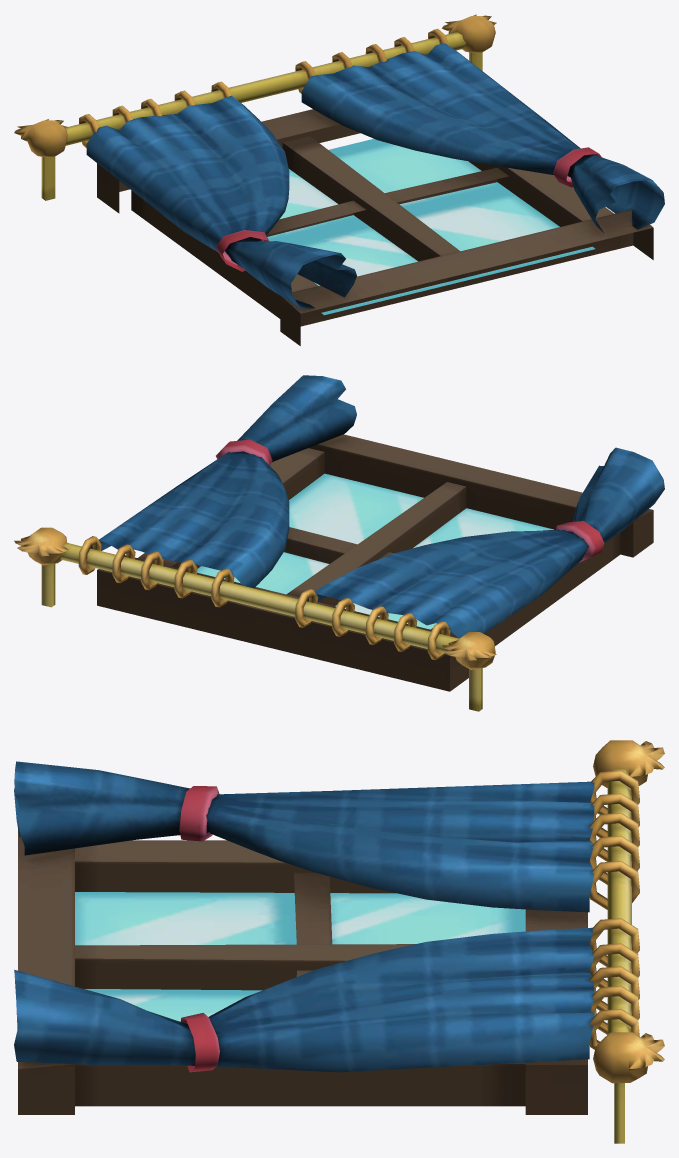
Rendered from Window.fbx.
3 views of the same model, one above another, from view 1: azimuth 30°, elevation 25°; view 2: azimuth 150°, elevation 25°; view 3: azimuth 270°, elevation 25° (orthographic). The views are drawn at different scales.
Parts seen in each view (by area): view 1: Window; view 2: Window; view 3: Window.
Part boxes in pixels (bbox=[...]): Window: bbox=[14, 14, 664, 345]; Window: bbox=[14, 375, 664, 711]; Window: bbox=[14, 740, 664, 1143].
Bounding box in the file's own units: 168 × 28.45 × 141.
